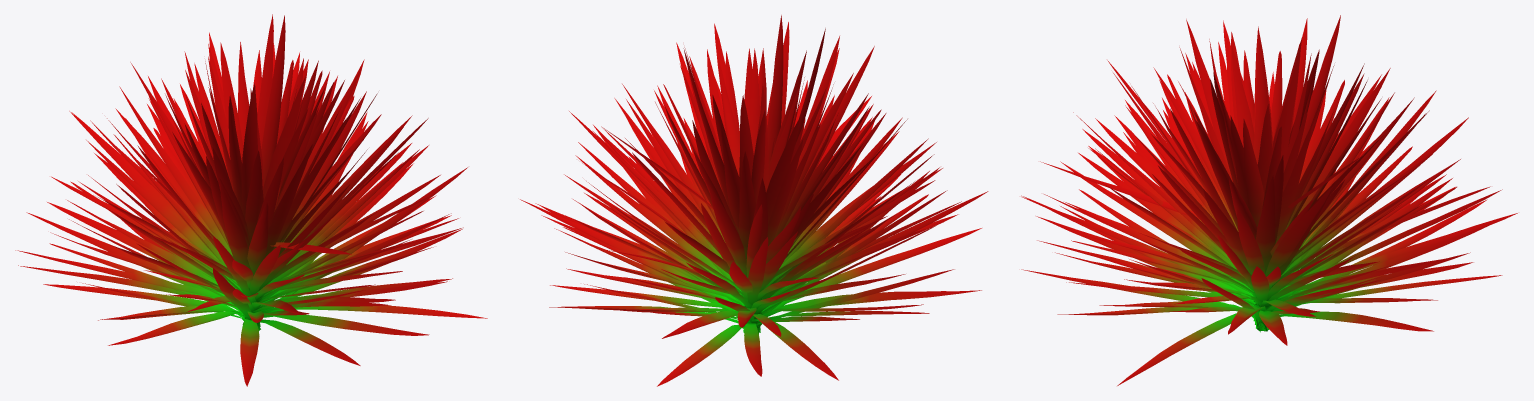
The model's file is Var8_LOD2.fbx.
3 renders of one model, left to right at view 1: azimuth 30°, elevation 25°; view 2: azimuth 150°, elevation 25°; view 3: azimuth 270°, elevation 25°, orthographic. The views are drawn at different scales.
Visible parts, largest first — view 1: _pnpj_Var8_LOD2; view 2: _pnpj_Var8_LOD2; view 3: _pnpj_Var8_LOD2.
Part boxes in pixels (left/top/right/bottom): _pnpj_Var8_LOD2: left=15, top=14, right=487, bottom=386; _pnpj_Var8_LOD2: left=520, top=15, right=988, bottom=386; _pnpj_Var8_LOD2: left=1021, top=15, right=1517, bottom=385.
Size of the model in its own units: 93.83 by 65.49 by 98.61.
